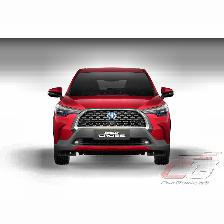NON-EV: (47, 65, 178, 167)
